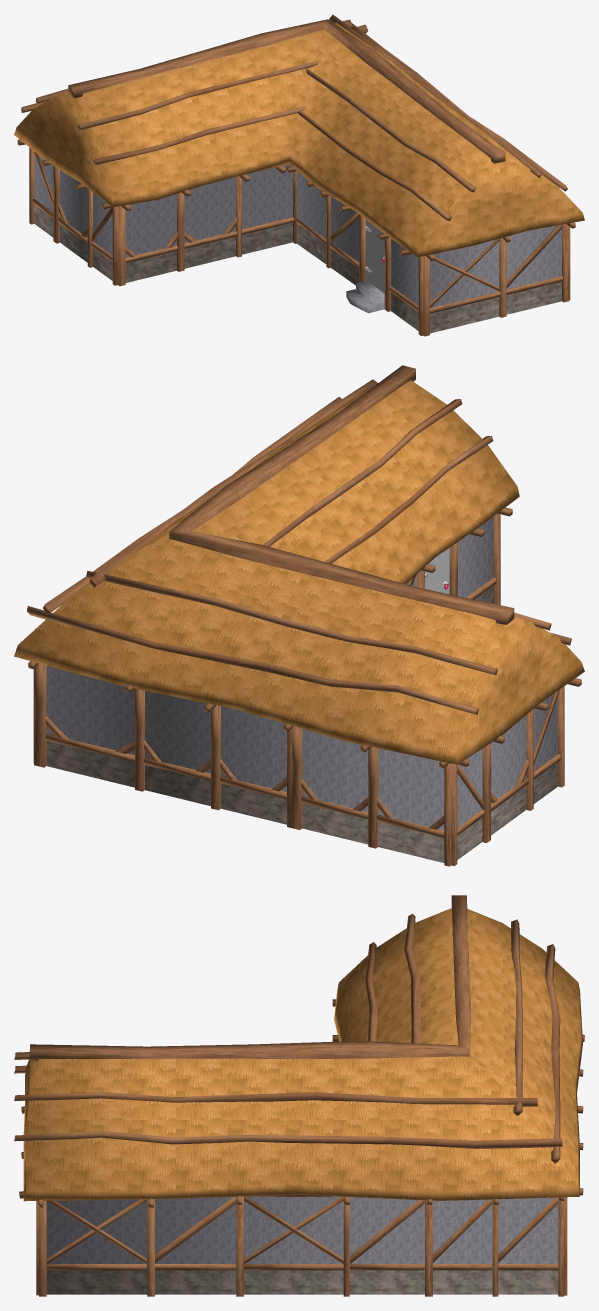
Rendered from Building_9_1.fbx.
The picture shows the model from 3 angles, top to bottom: view 1: azimuth 30°, elevation 25°; view 2: azimuth 150°, elevation 25°; view 3: azimuth 270°, elevation 25°; orthographic projection. The views are drawn at different scales.
Parts seen in each view (by area): view 1: Building_9_1; view 2: Building_9_1; view 3: Building_9_1.
Part boxes in pixels (<box>): Building_9_1: <box>14,14,584,336</box>; Building_9_1: <box>14,365,584,866</box>; Building_9_1: <box>14,895,584,1296</box>.
Size of the model in its own units: 12.51 by 5.79 by 14.3.
